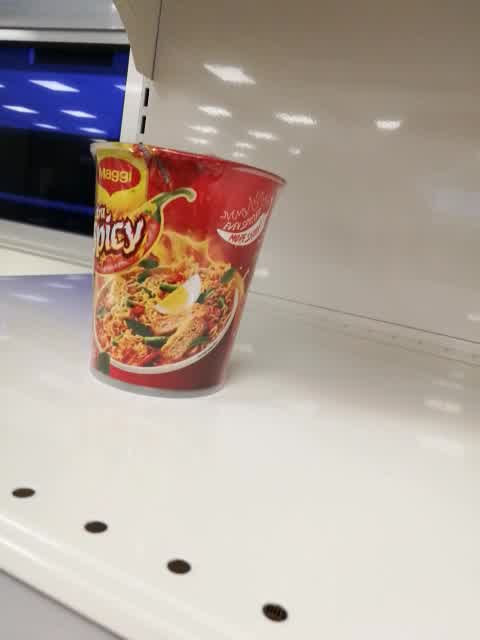maggi: (86, 141, 286, 401)
